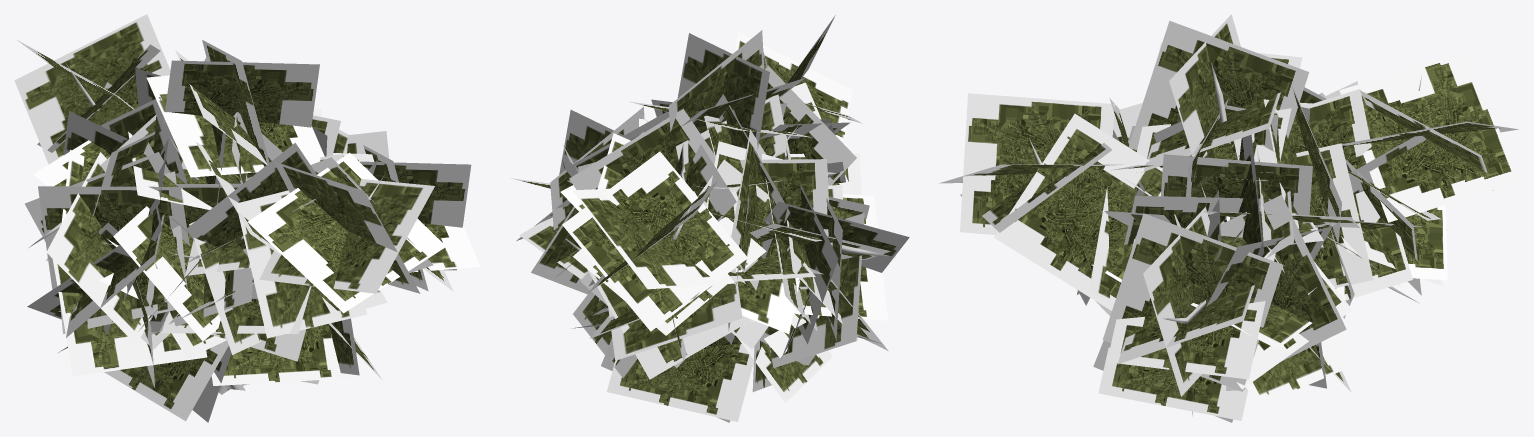
File: Kust2.fbx
3 renders of one model, left to right at view 1: azimuth 30°, elevation 25°; view 2: azimuth 150°, elevation 25°; view 3: azimuth 270°, elevation 25°, orthographic. The views are drawn at different scales.
Visible parts, largest first — view 1: Circle.001; view 2: Circle.001; view 3: Circle.001.
Part boxes in pixels (bbox=[...]): Circle.001: bbox=[14, 14, 480, 422]; Circle.001: bbox=[511, 15, 909, 422]; Circle.001: bbox=[938, 14, 1519, 422].
Bounding box in the file's own units: 345 × 297 × 422.
